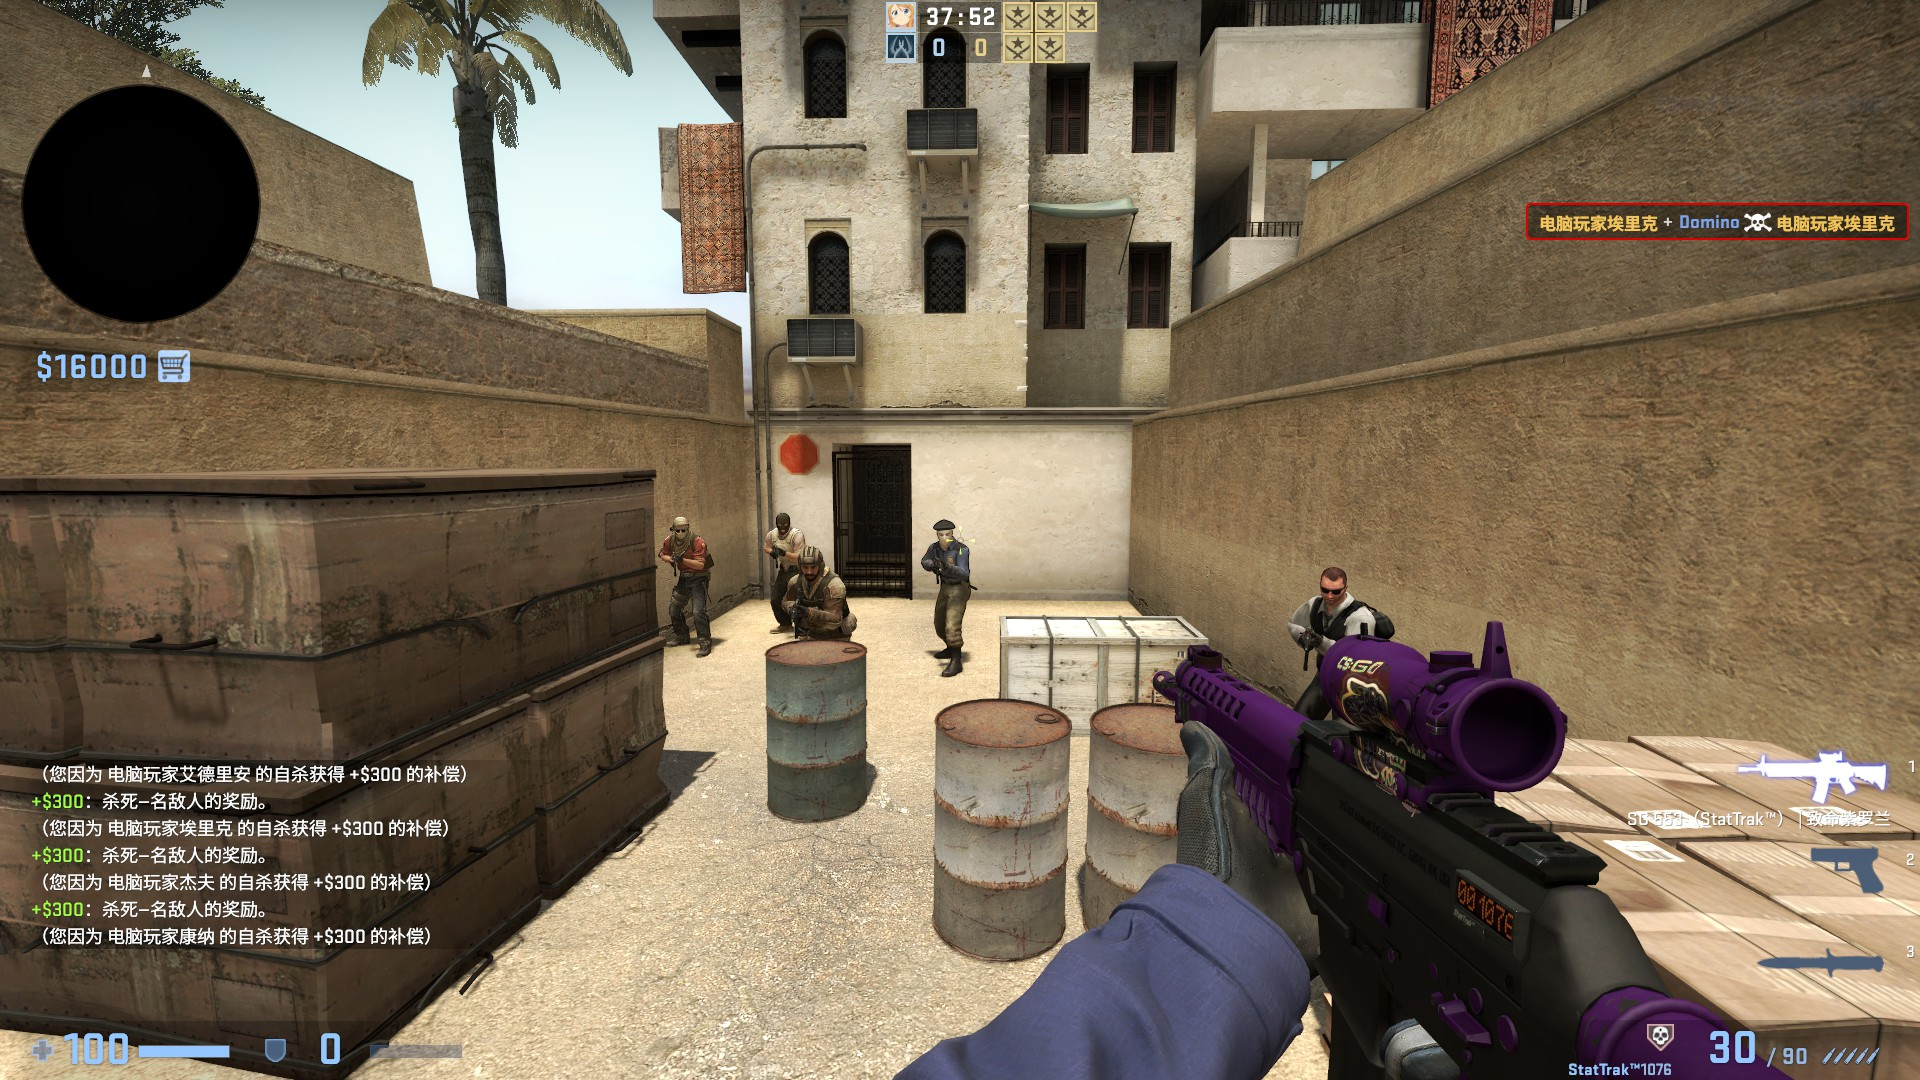head: (795, 544, 823, 580), (1318, 568, 1348, 601), (930, 518, 956, 548), (667, 513, 691, 540), (773, 510, 790, 538)
